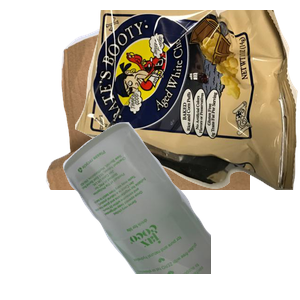cardboard: (43, 10, 283, 190)
glass: (60, 120, 300, 300)
plastic: (87, 178, 234, 300)
trash: (75, 10, 300, 190)
